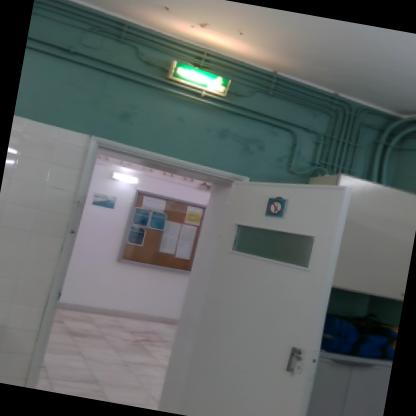open: (37, 124, 364, 415)
